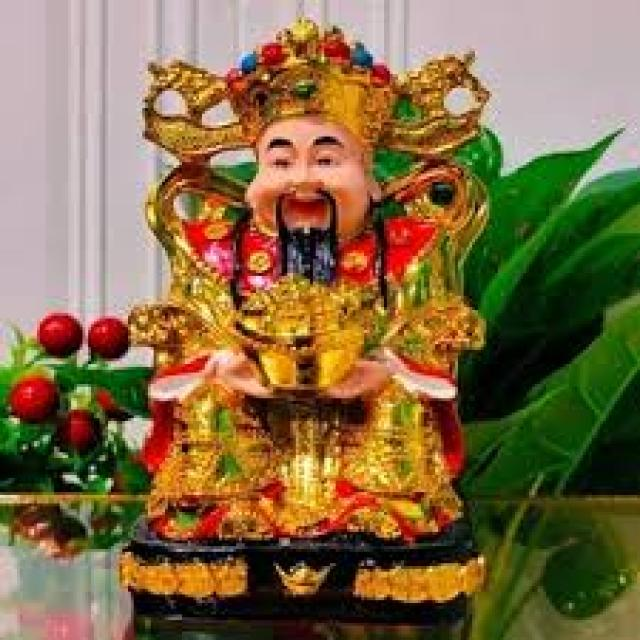Cai shen: (140, 14, 462, 522)
